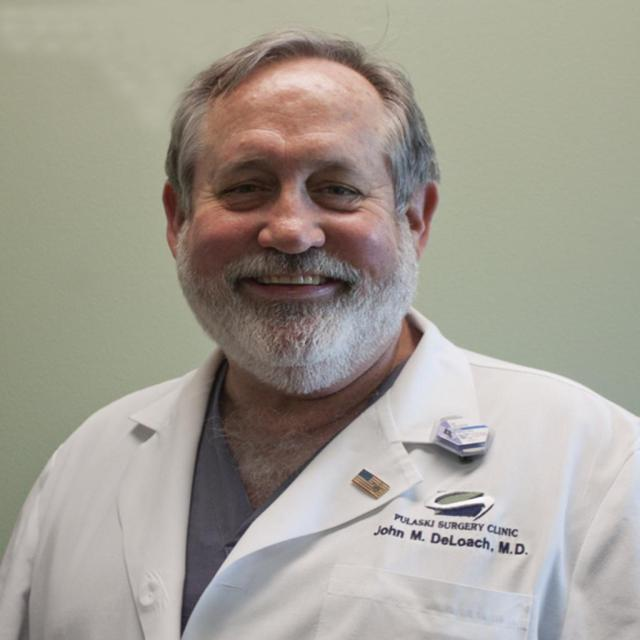Face: (184, 65, 427, 403)
